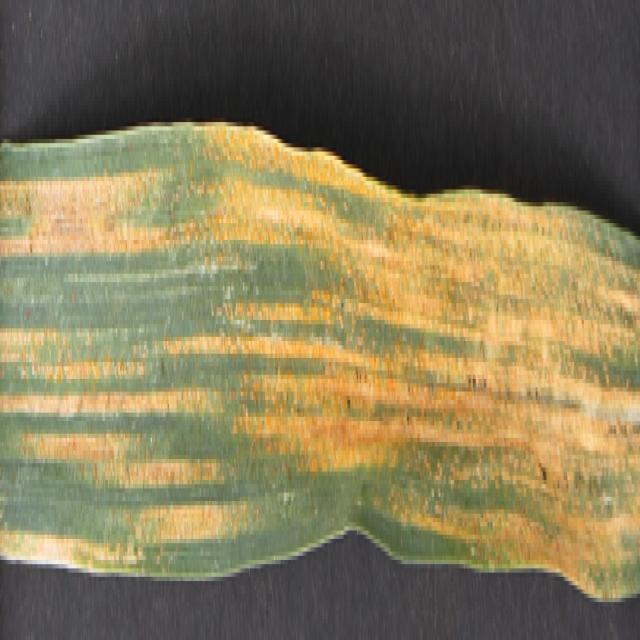leaf rust: (1, 127, 639, 586)
